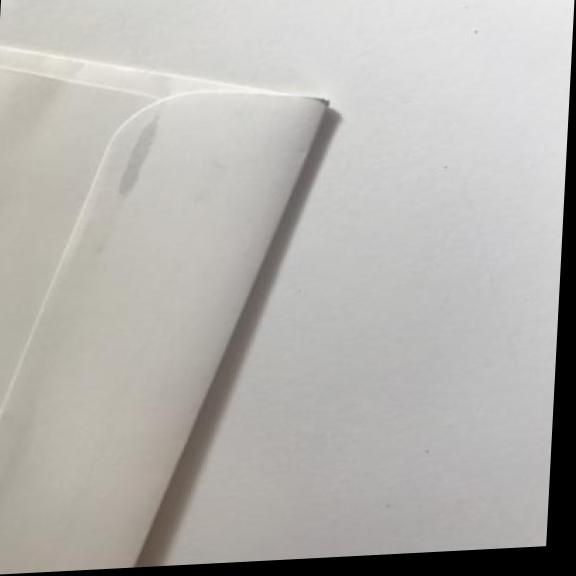Kertas: (0, 32, 331, 576)
